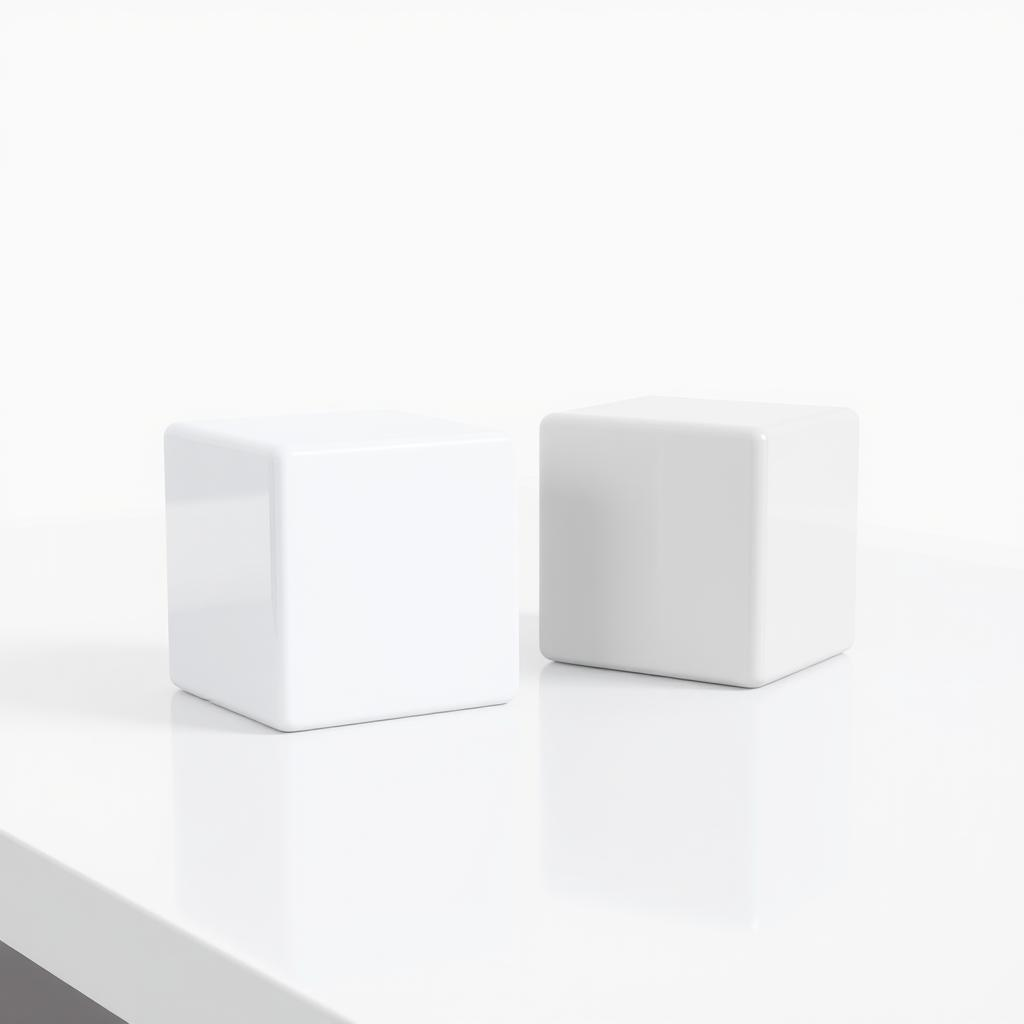cube: (162, 406, 520, 732), (537, 393, 859, 689)
